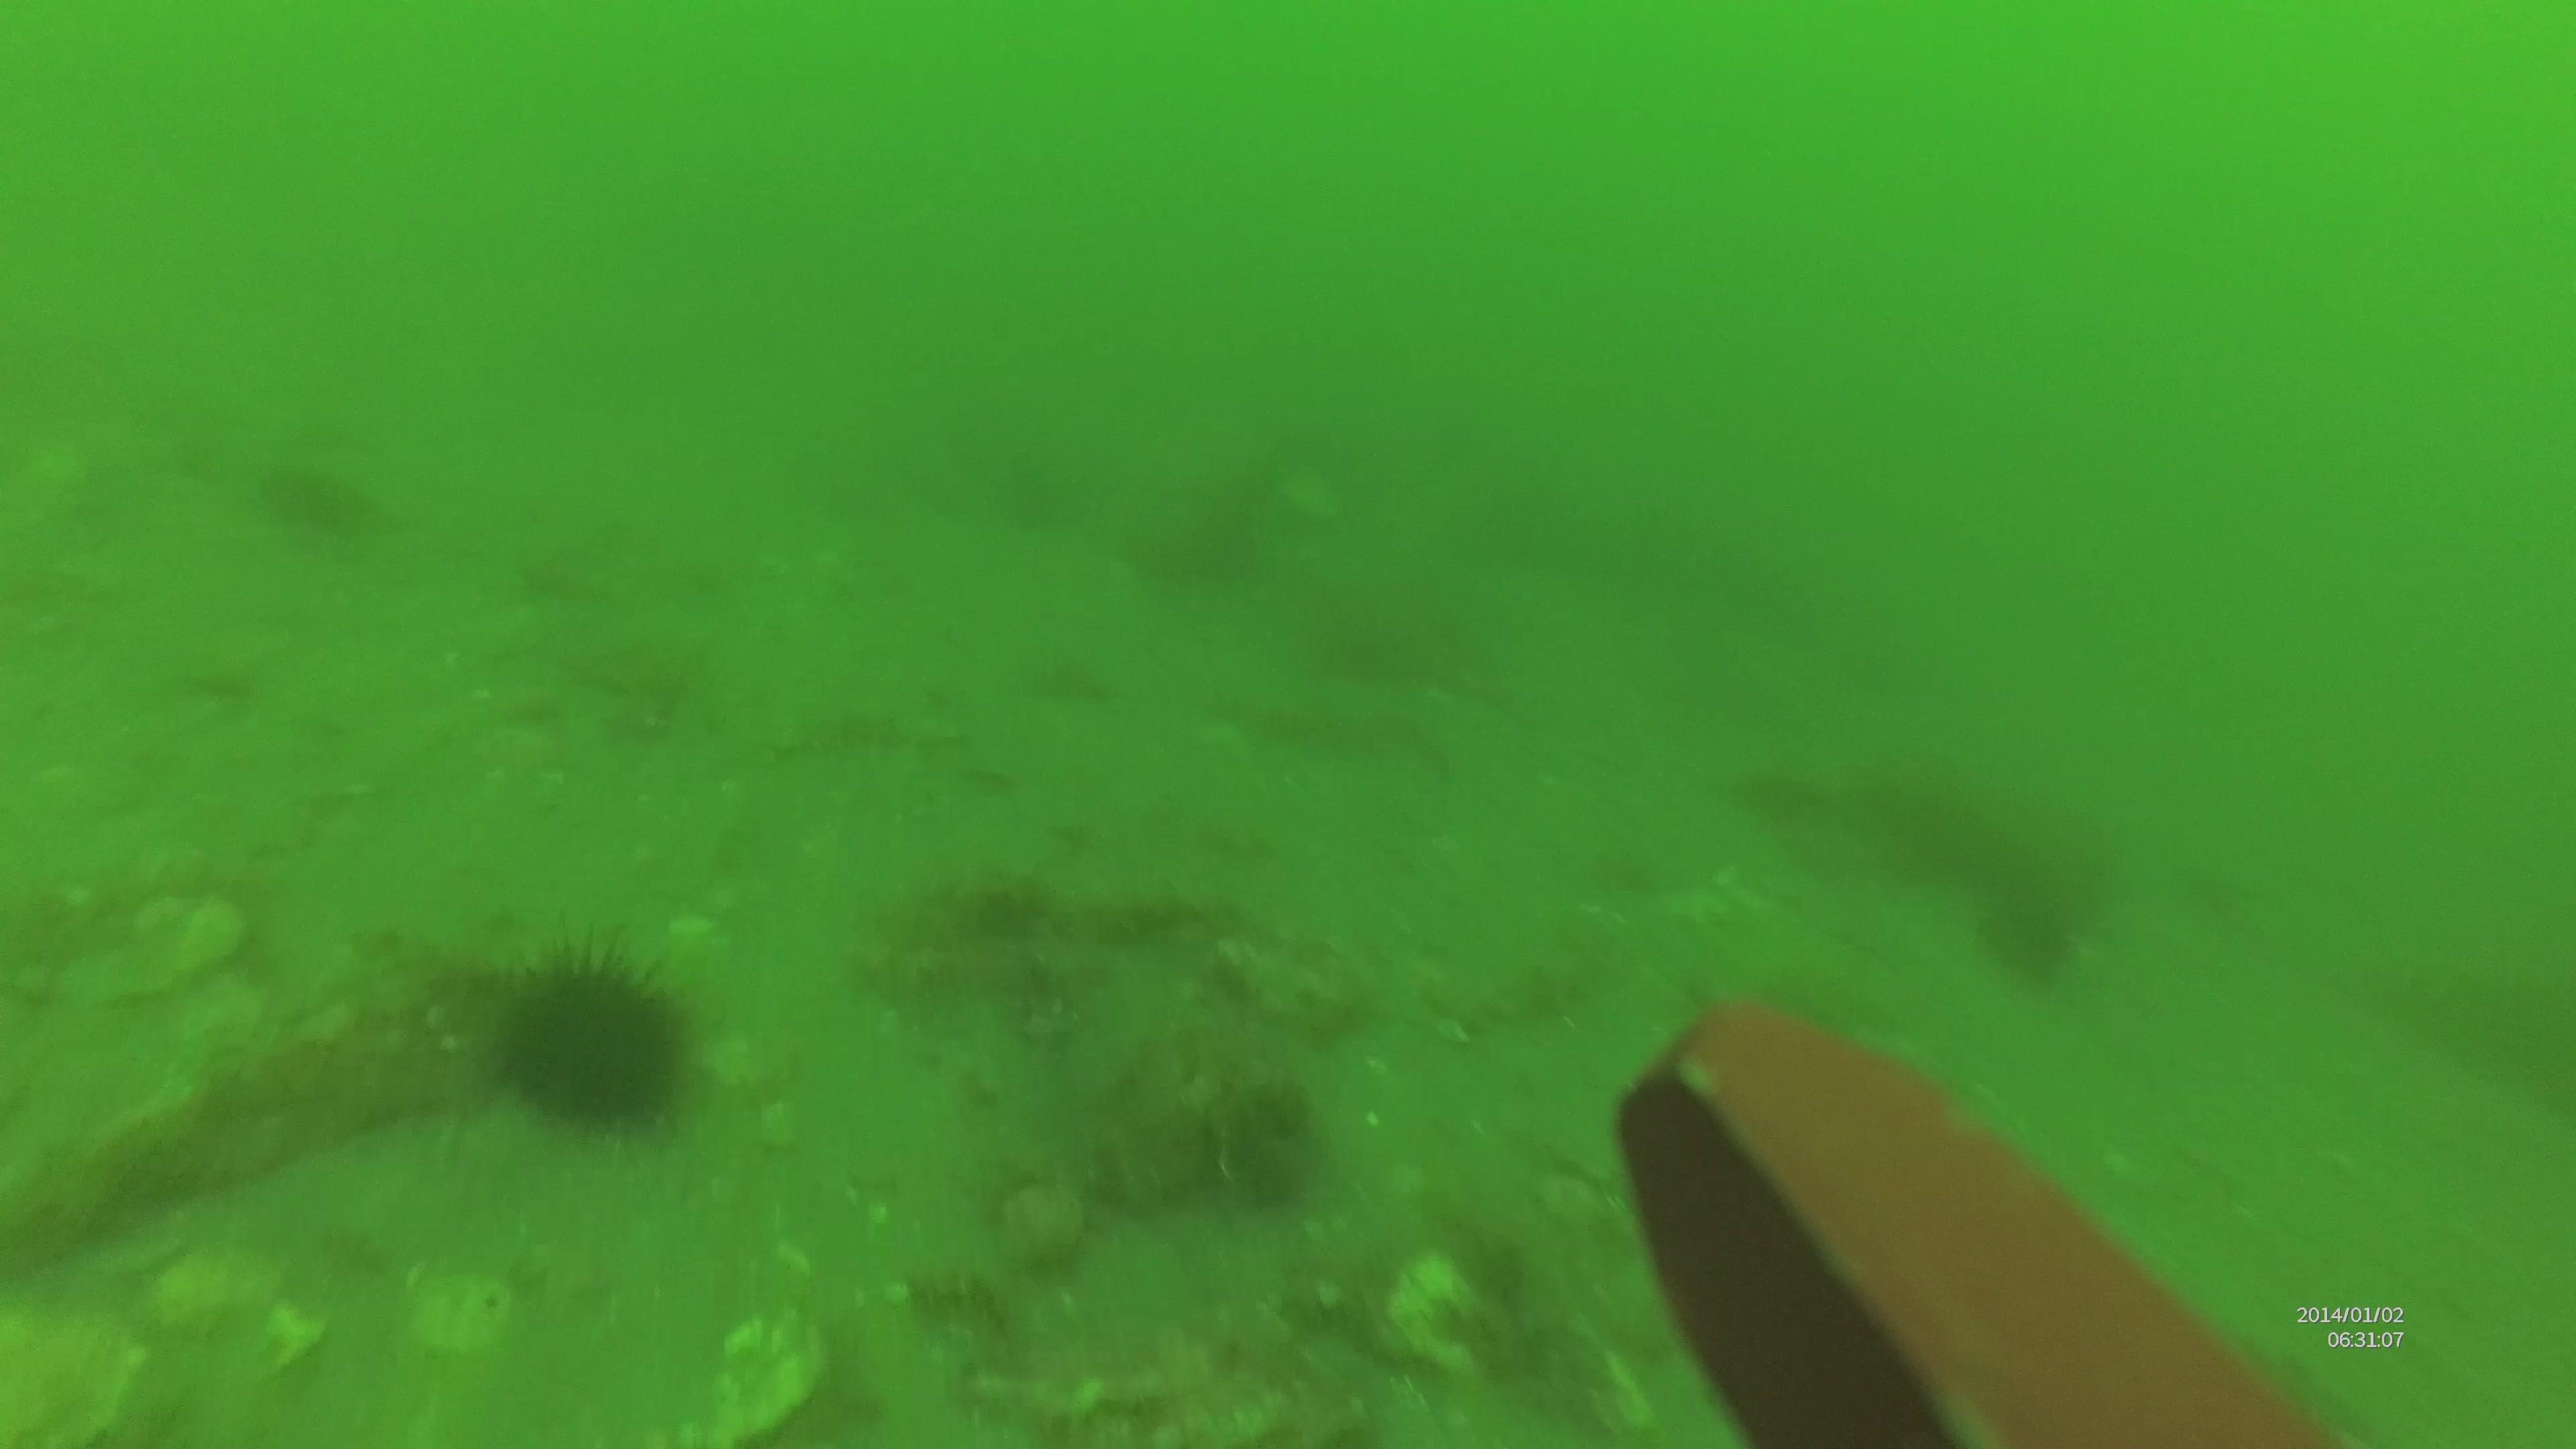echinus: (483, 939, 671, 1127)
